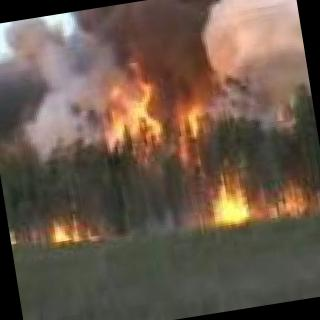fire: (89, 46, 166, 155), (208, 175, 250, 223), (172, 101, 205, 146), (48, 216, 86, 253), (278, 186, 314, 213)
